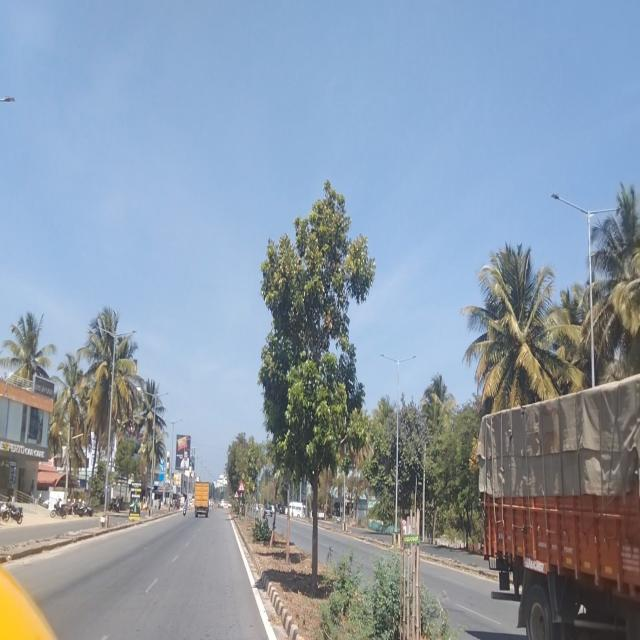bien_cam: (238, 479, 245, 493), (234, 488, 238, 498)
